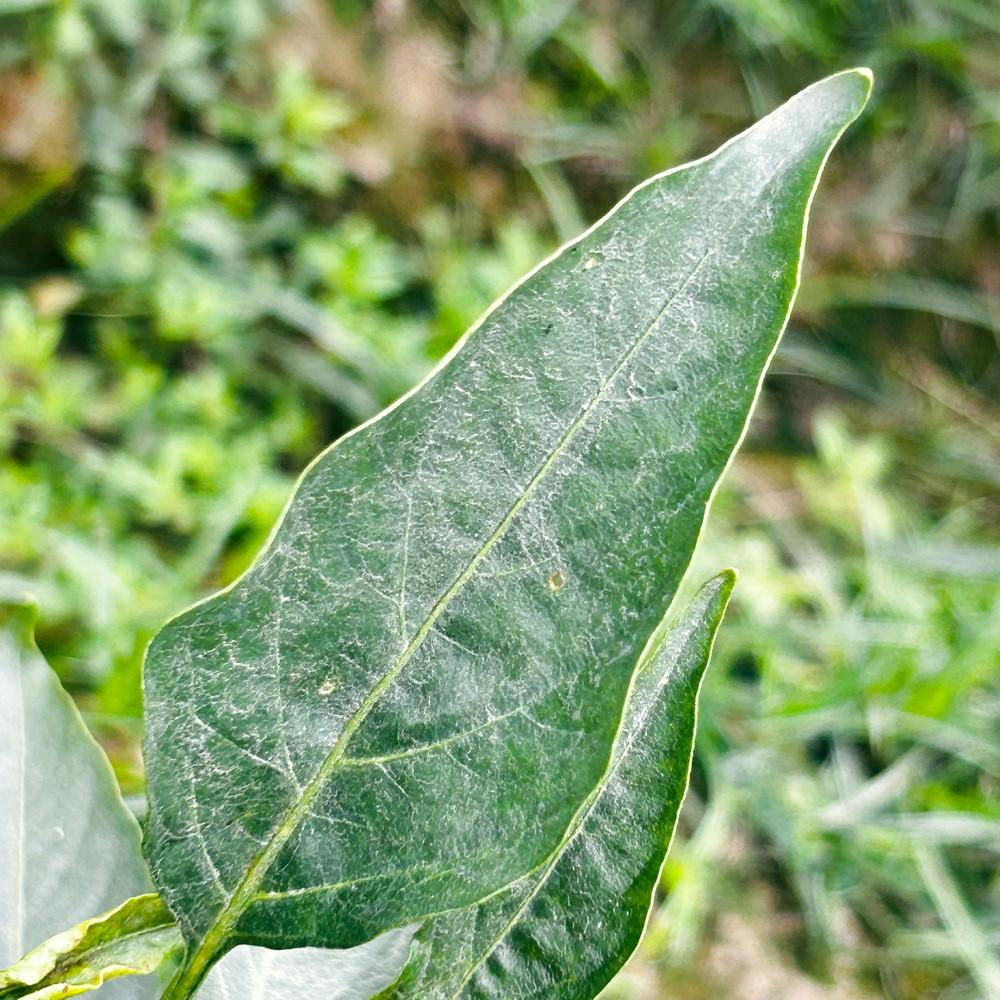Daun Cabai Sehat: (138, 67, 881, 955)
